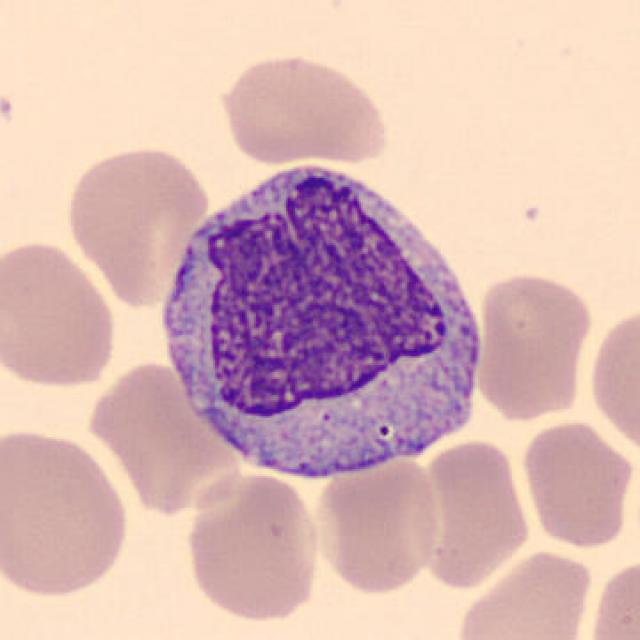Monocyte: (148, 148, 496, 490)
Platelets: (0, 90, 18, 132)
RBC: (453, 0, 631, 152), (80, 354, 244, 518), (60, 140, 214, 310), (0, 423, 133, 603), (180, 467, 326, 626), (213, 49, 393, 168), (308, 450, 446, 598), (407, 436, 537, 590), (471, 270, 596, 423), (0, 235, 121, 393), (519, 418, 637, 552), (451, 546, 593, 640), (585, 300, 638, 460), (583, 553, 638, 640)
